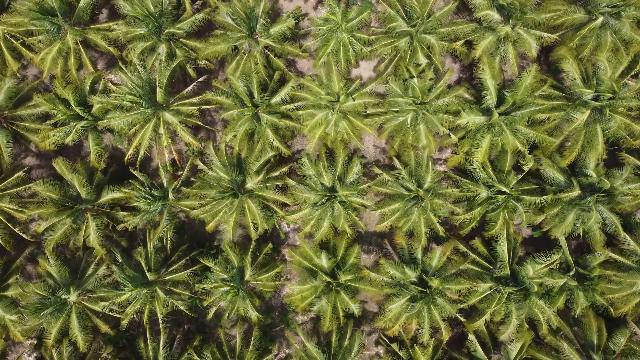trees: (435, 233, 568, 357), (91, 57, 224, 171), (7, 243, 126, 360), (198, 47, 310, 164), (97, 227, 208, 343), (180, 139, 298, 247), (444, 152, 561, 259), (11, 158, 131, 260), (527, 162, 640, 263), (372, 249, 480, 352), (282, 234, 385, 342), (8, 67, 121, 164), (4, 3, 129, 90), (363, 64, 467, 166), (366, 153, 465, 258), (288, 59, 391, 159), (102, 4, 221, 90), (191, 237, 290, 339), (285, 149, 378, 247), (453, 4, 564, 85), (191, 3, 308, 77), (367, 4, 461, 85), (302, 3, 385, 76), (2, 72, 47, 175), (3, 267, 52, 344)
